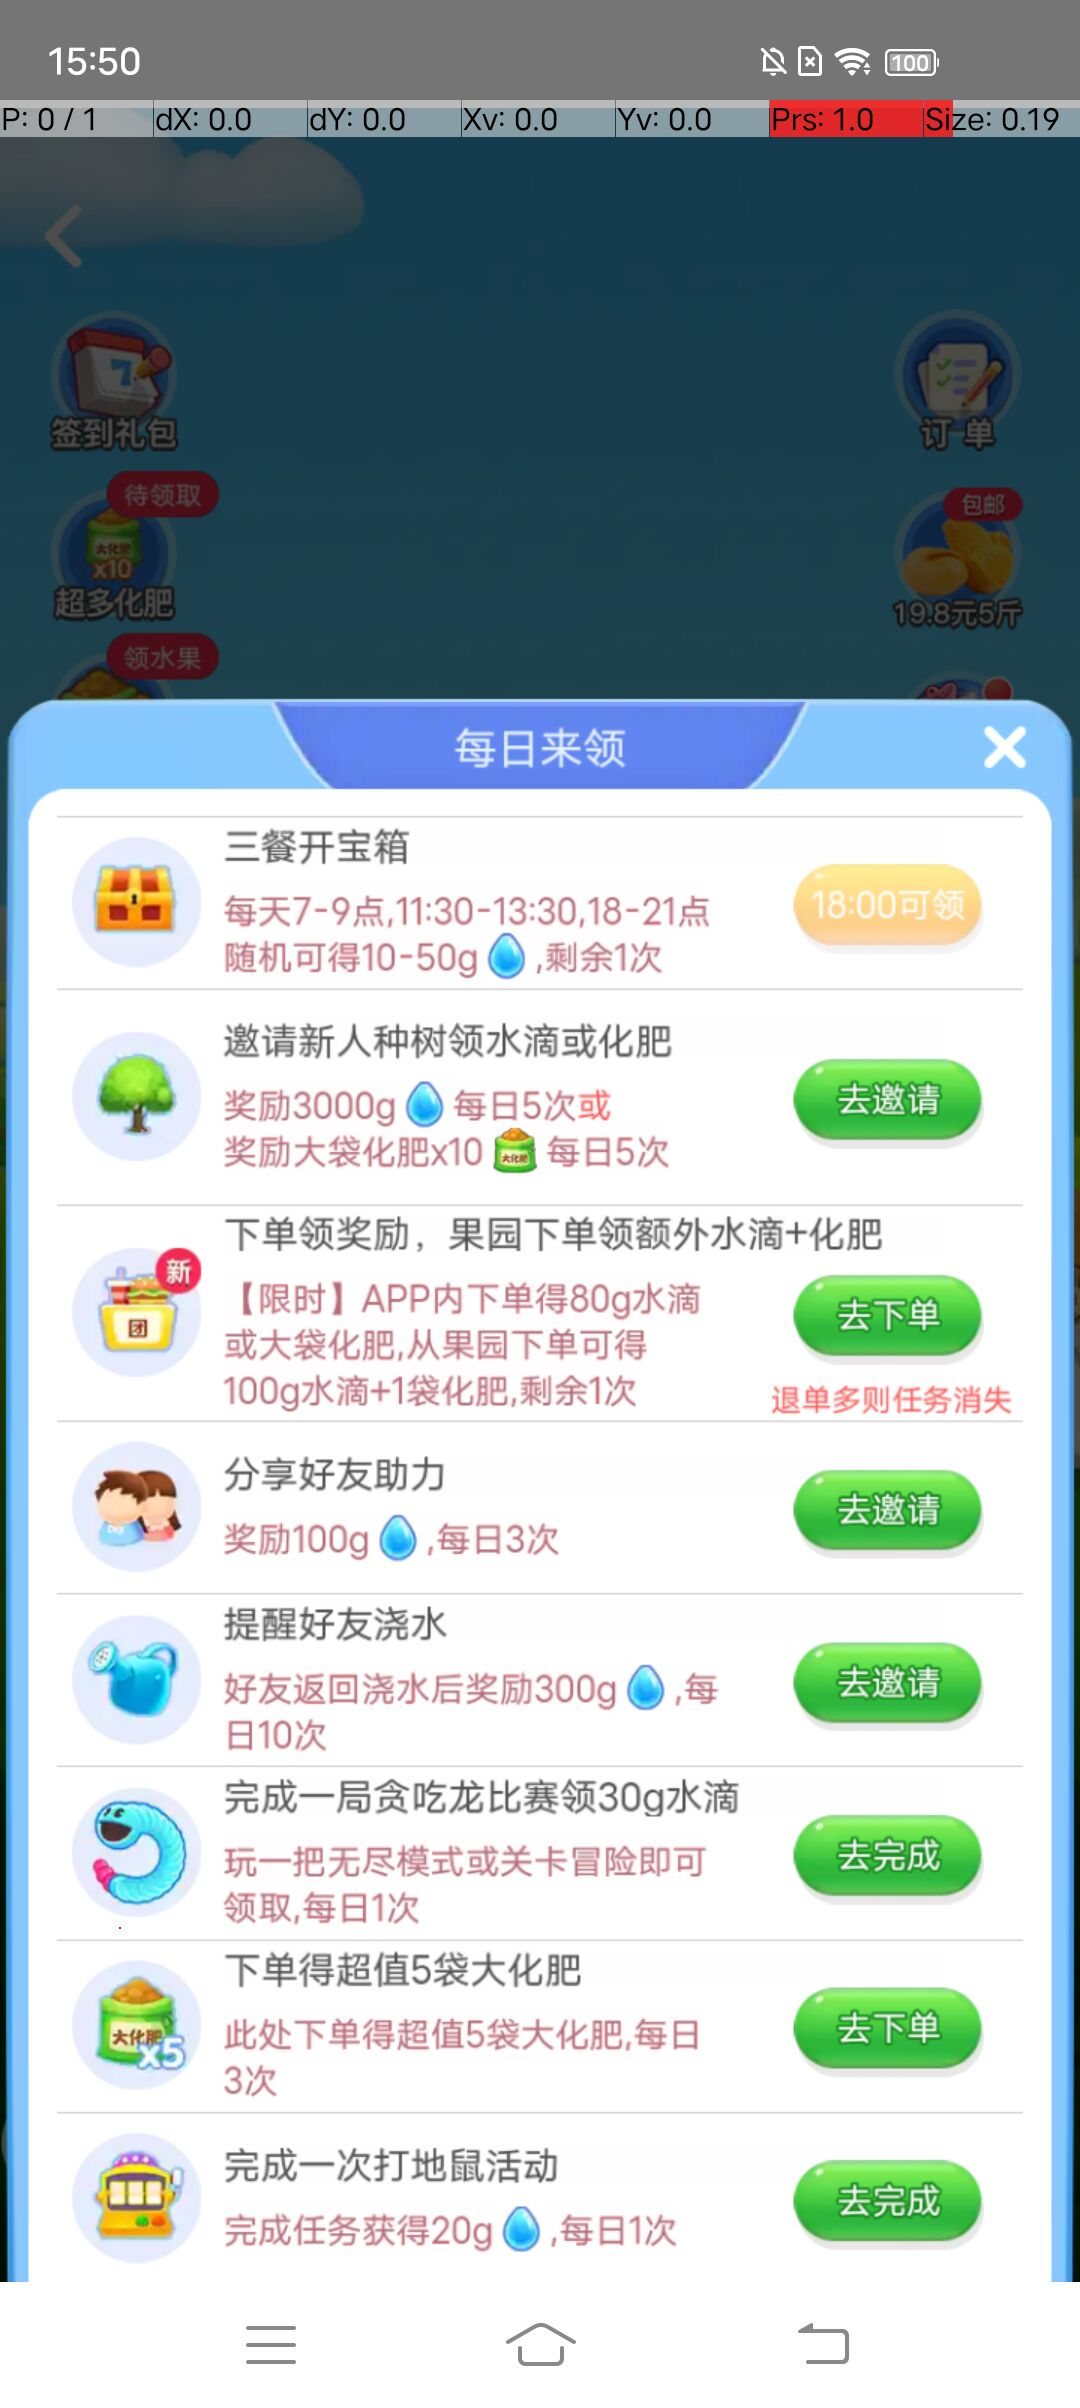popup: (982, 728, 1022, 756)
